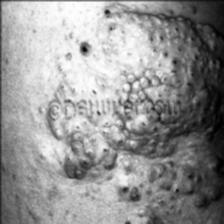Unclassified: (55, 5, 218, 92), (60, 118, 208, 182), (184, 64, 224, 216), (122, 187, 176, 224)
